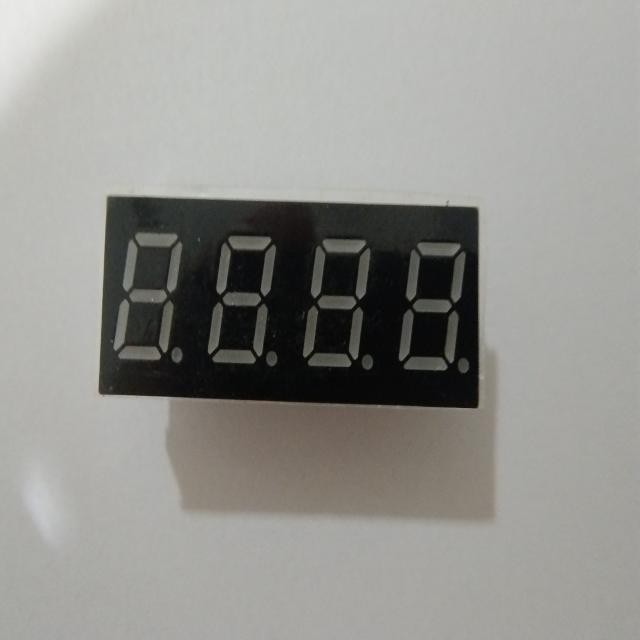7_segments_4_digits: (92, 180, 492, 422)
